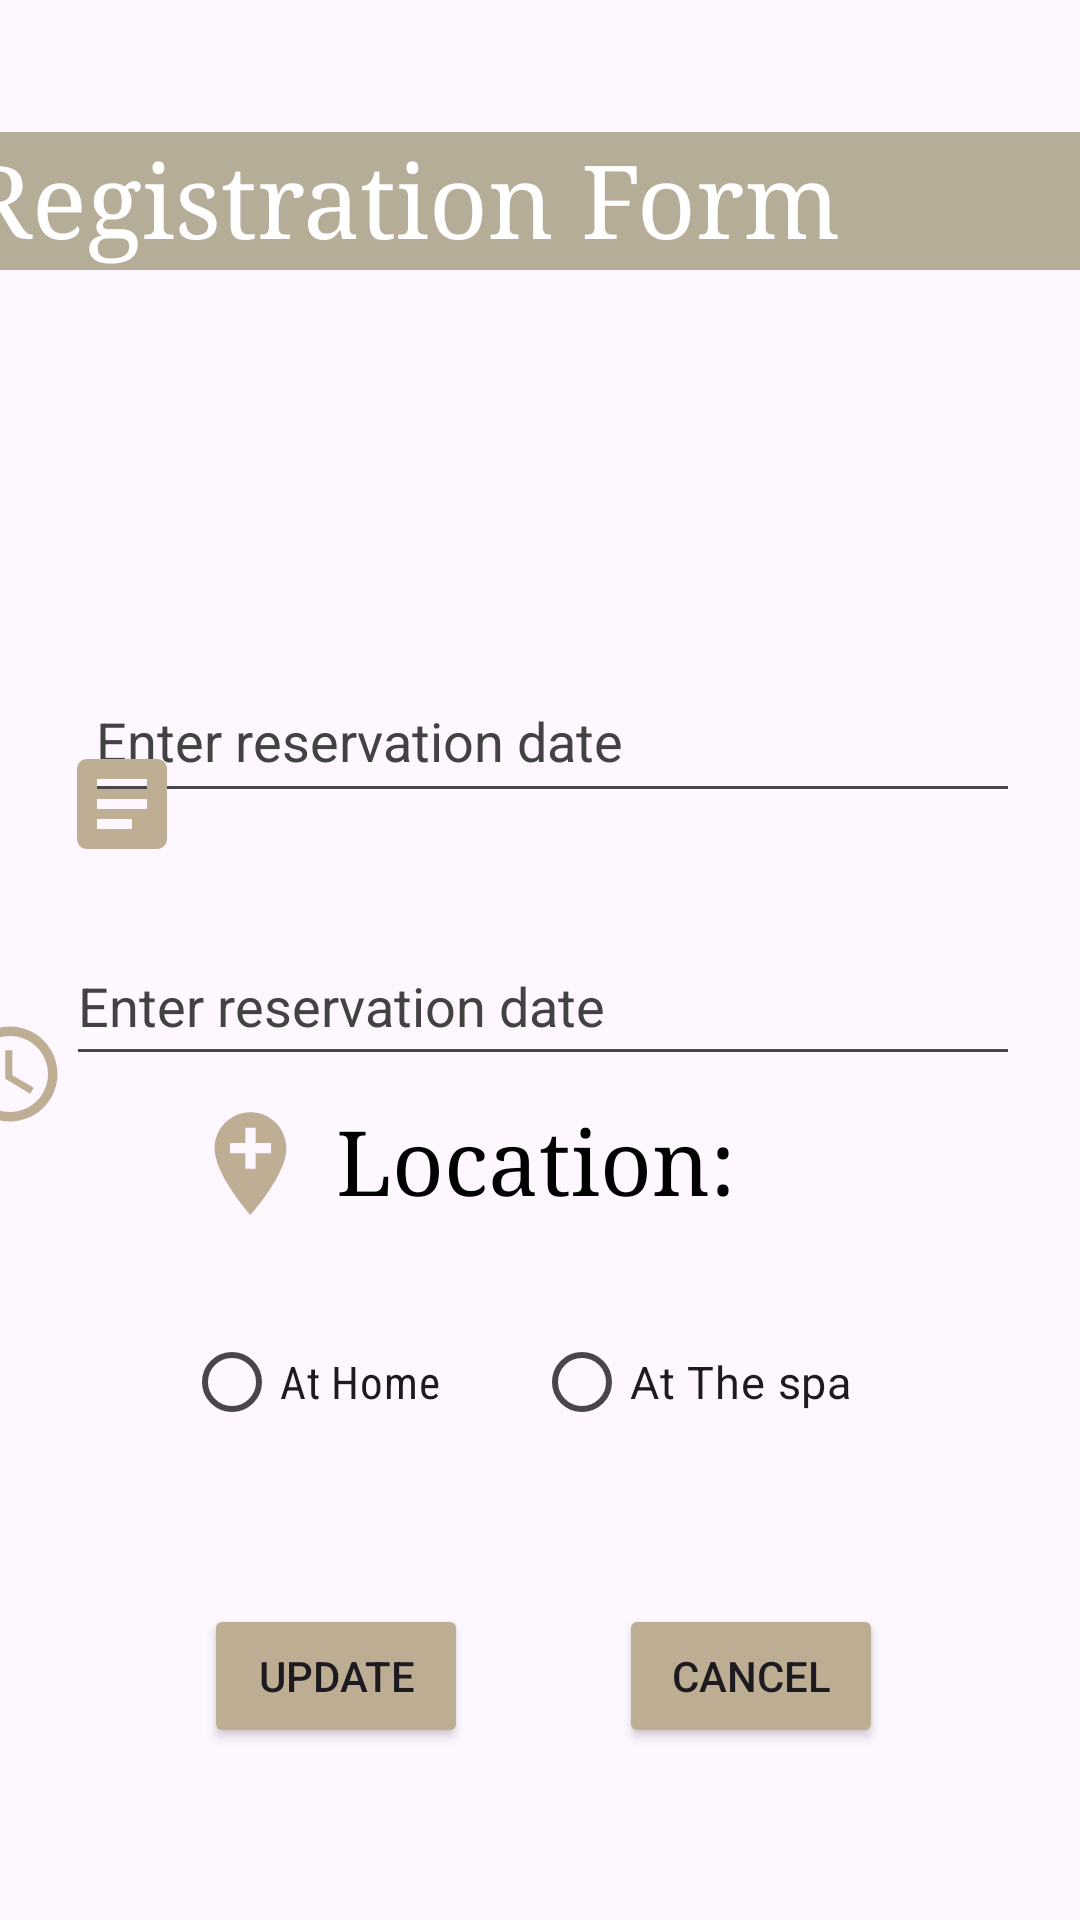

Where icons sit on this 1080 x 1920 app screen, as box(x1, y1, x2, y2):
article: box(77, 744, 183, 849)
